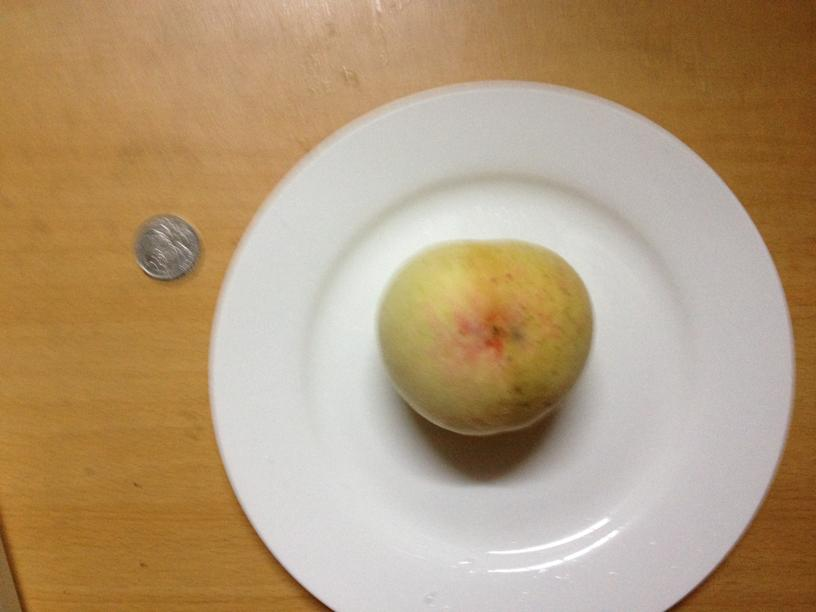coin: (133, 214, 198, 280)
peach: (374, 238, 593, 434)
